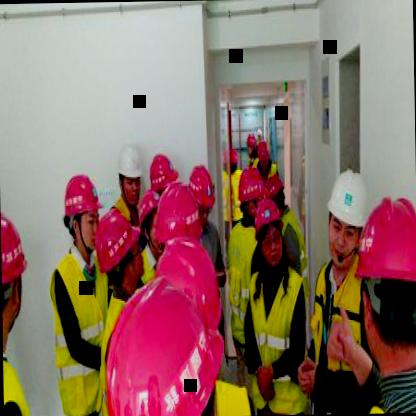helmet: (103, 282, 227, 416), (356, 199, 416, 360), (139, 238, 220, 354), (324, 160, 372, 270), (0, 203, 29, 353), (94, 209, 142, 297), (60, 172, 104, 258), (154, 184, 202, 250), (186, 164, 215, 232), (254, 200, 282, 270), (116, 140, 144, 208), (136, 189, 164, 255), (147, 152, 179, 196), (238, 165, 262, 220), (266, 177, 286, 214)
